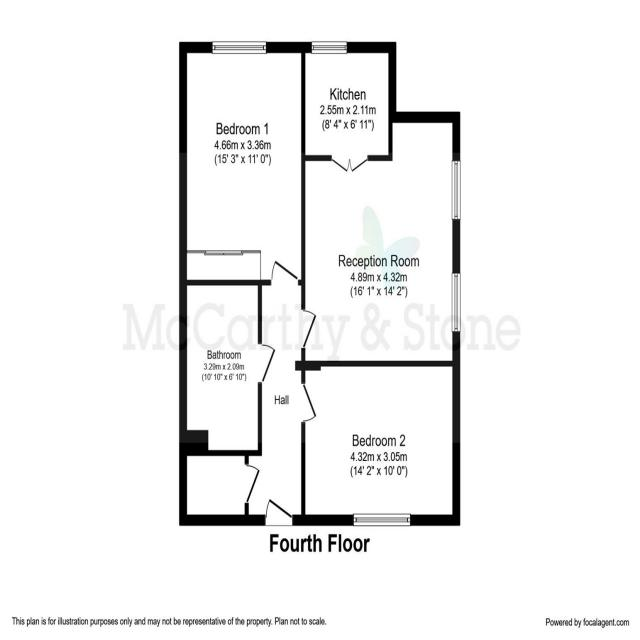DOOR: (268, 257, 305, 286), (258, 340, 277, 387), (264, 497, 294, 526), (301, 378, 318, 425), (301, 307, 318, 350), (244, 461, 261, 503)
DOUBLE DOOR: (331, 155, 370, 174)
ROOM: (179, 41, 305, 286), (301, 360, 460, 526), (301, 43, 397, 176)
WINDOW: (351, 511, 412, 529), (210, 39, 268, 57), (450, 158, 462, 222), (450, 270, 462, 332), (310, 39, 348, 55)
